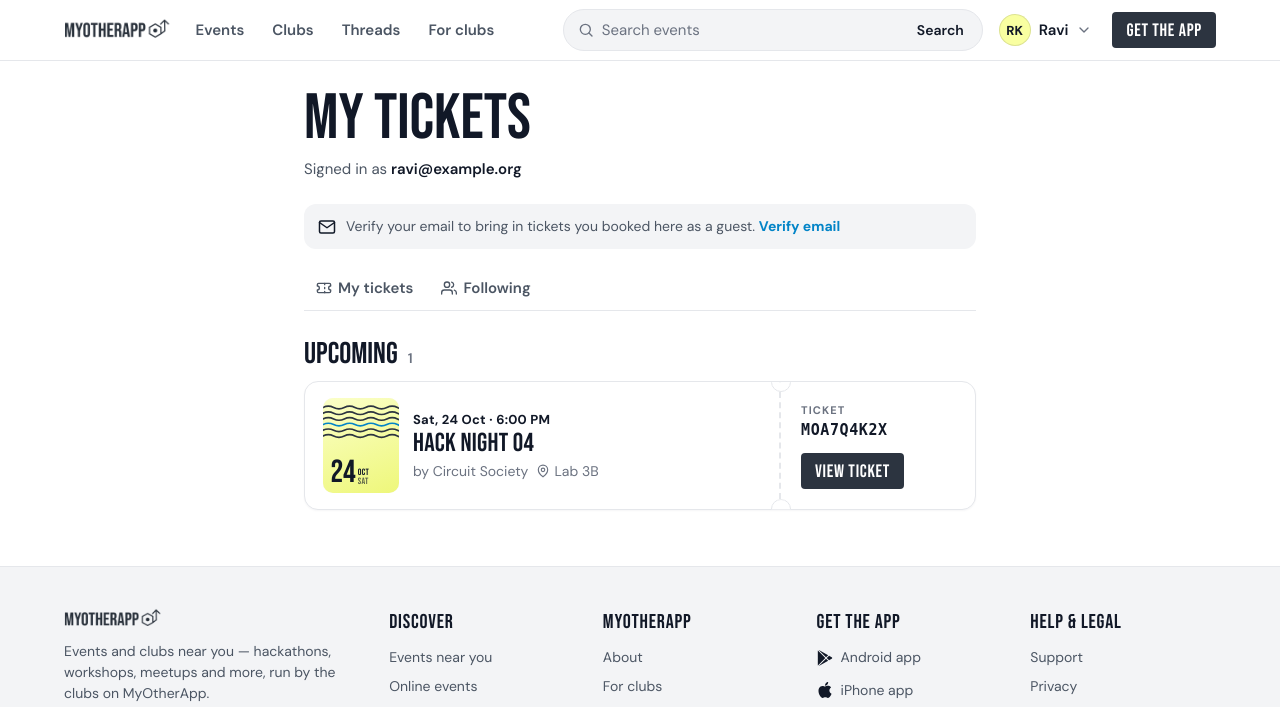
Test: My tickets, signed in with an unverified email › can be left for later: the line stays, the tickets stay
Click the button "Verify email" at (800, 227), box [759, 216, 840, 237]
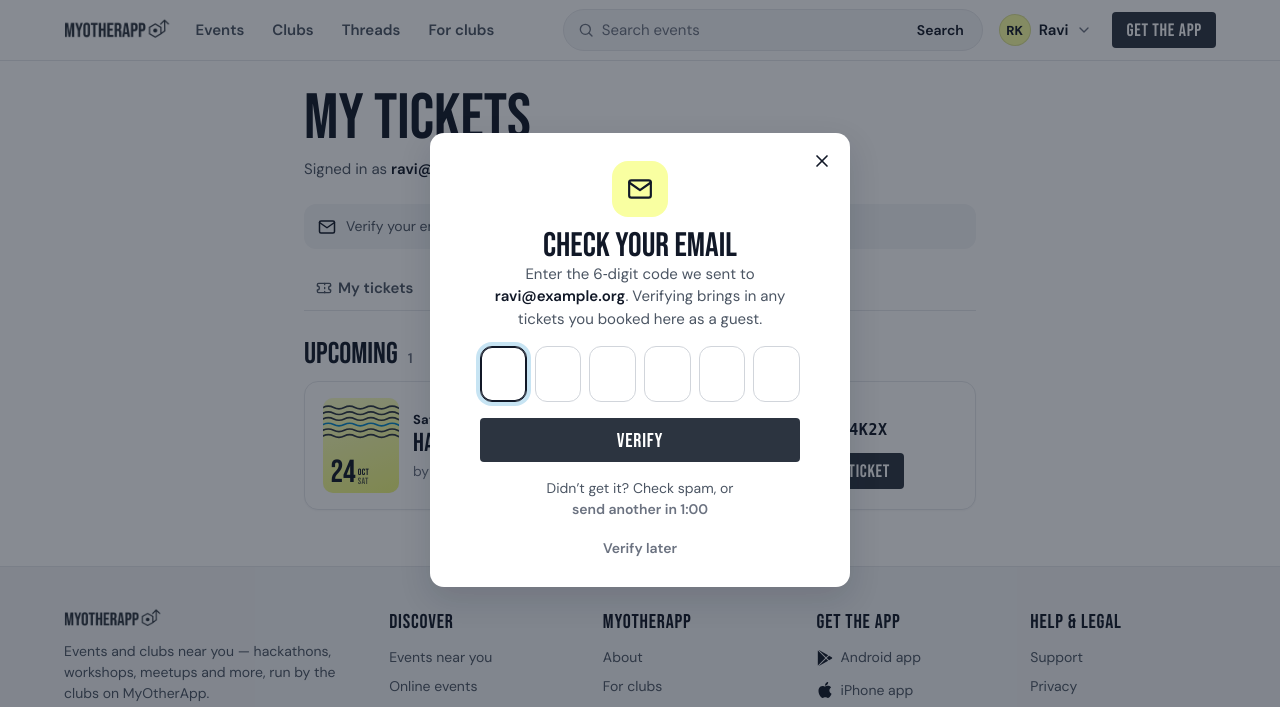
Click the button "Verify later" at (640, 549), box [593, 532, 687, 565]
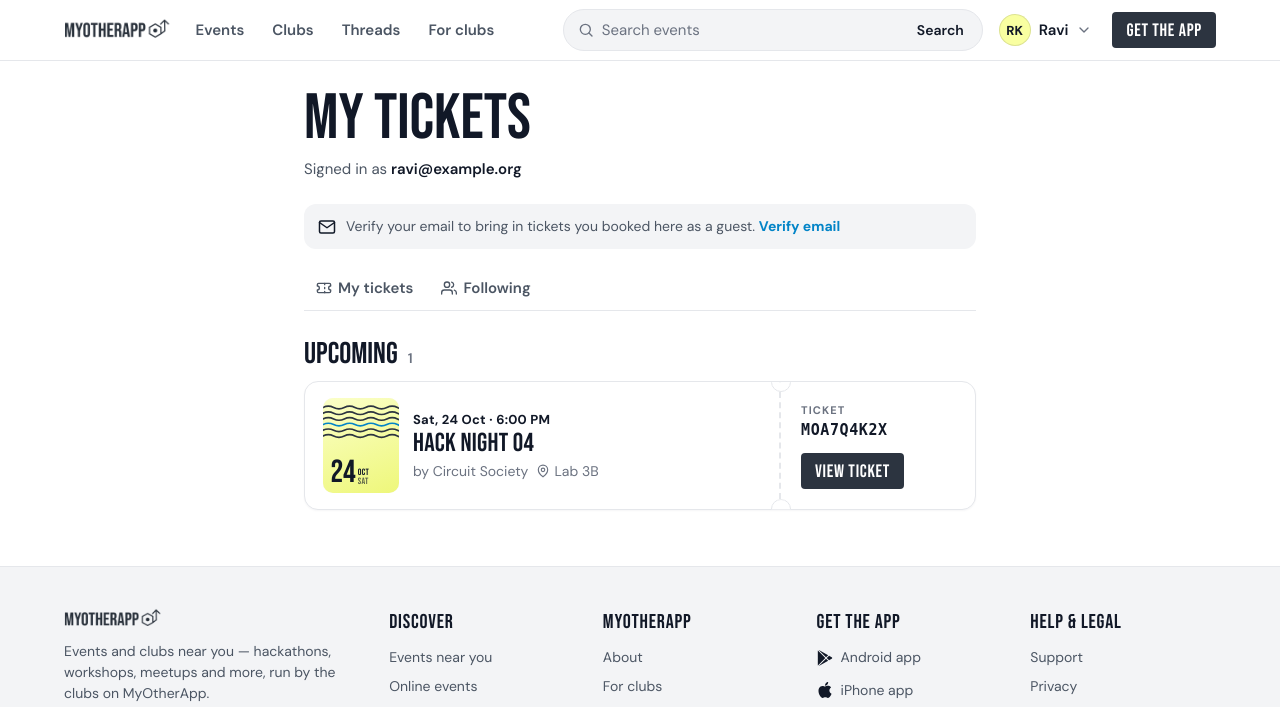
Expected: the text "Verify your email to bring in" is shown, [346, 217, 755, 235]
Result: the dialog is gone
